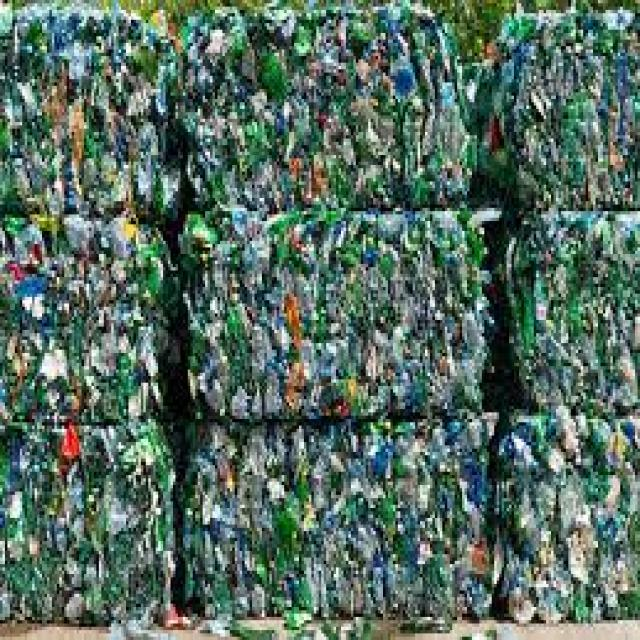heap: (210, 217, 470, 415)
